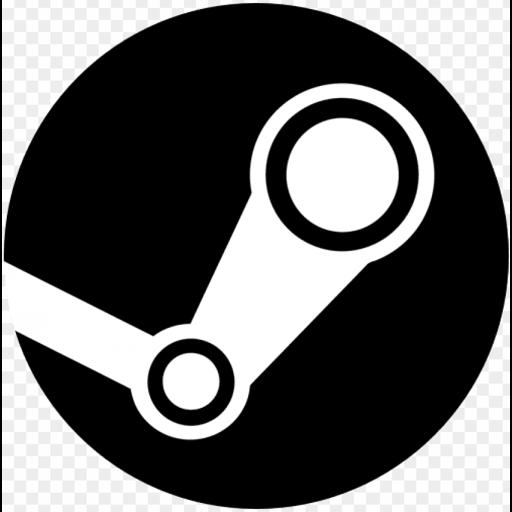Steam: (2, 0, 510, 512)
